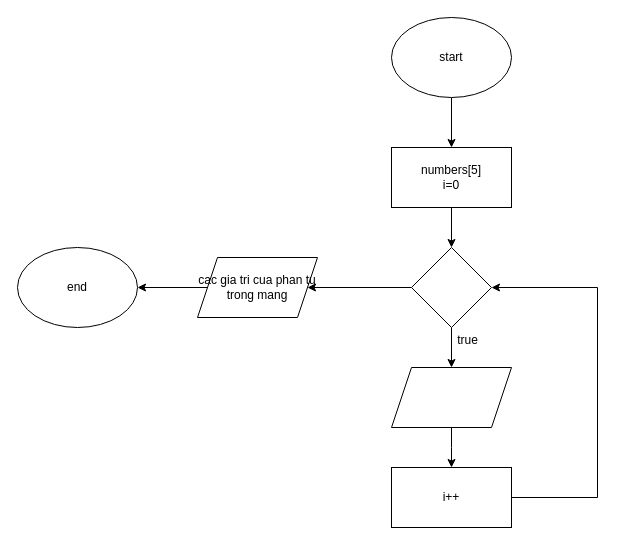
Some shapes in this 623 by 545 pixel diagram are drawn without their labels. The centre of each missing label's shape, as x and y in pixels:
"i<5?" belongs at point (451, 287).
"numbers[i]" belongs at point (451, 397).
